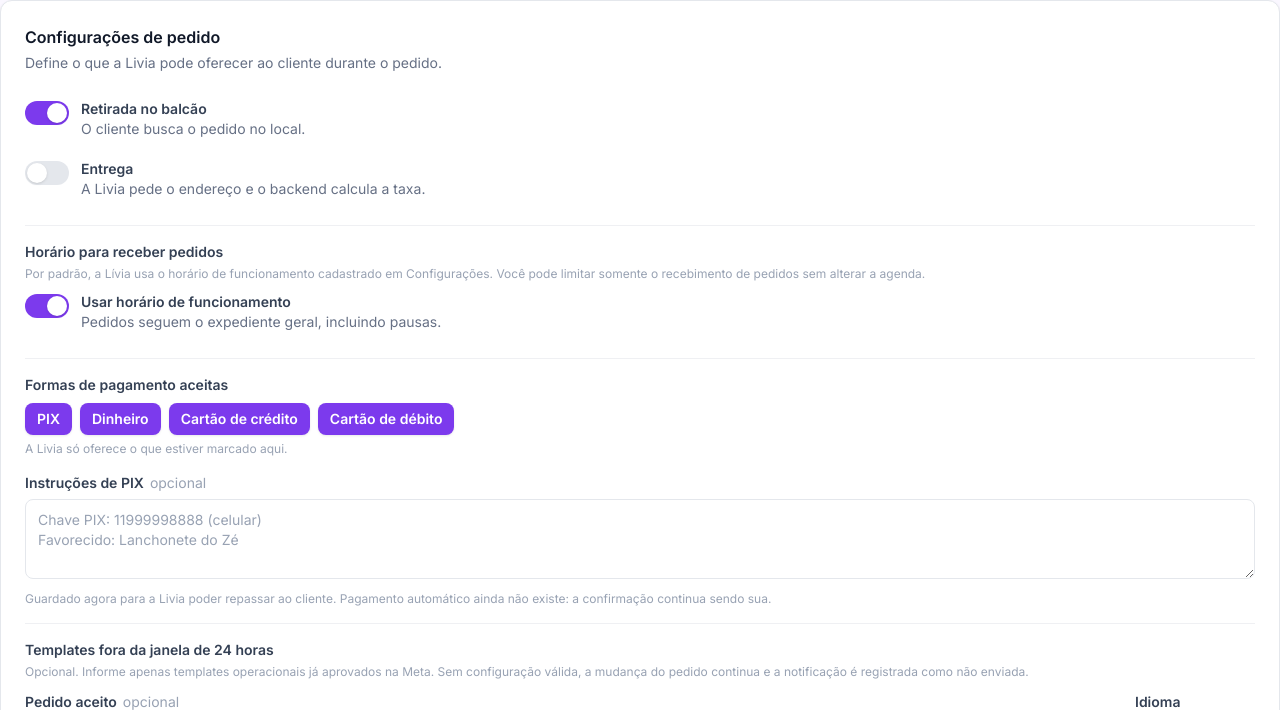
it: OrderSettingsEditor (tela) › instruções de PIX só aparecem quando PIX está aceito
The image size is (1280, 710).
Expected: the text "Configurações de pedido" is shown, x1=25 y1=27 x2=220 y2=47
Expected: the text "Instruções de PIX" is shown, x1=25 y1=474 x2=144 y2=491
Click the button "PIX".
click(48, 419)  # box x1=25 y1=403 x2=72 y2=435
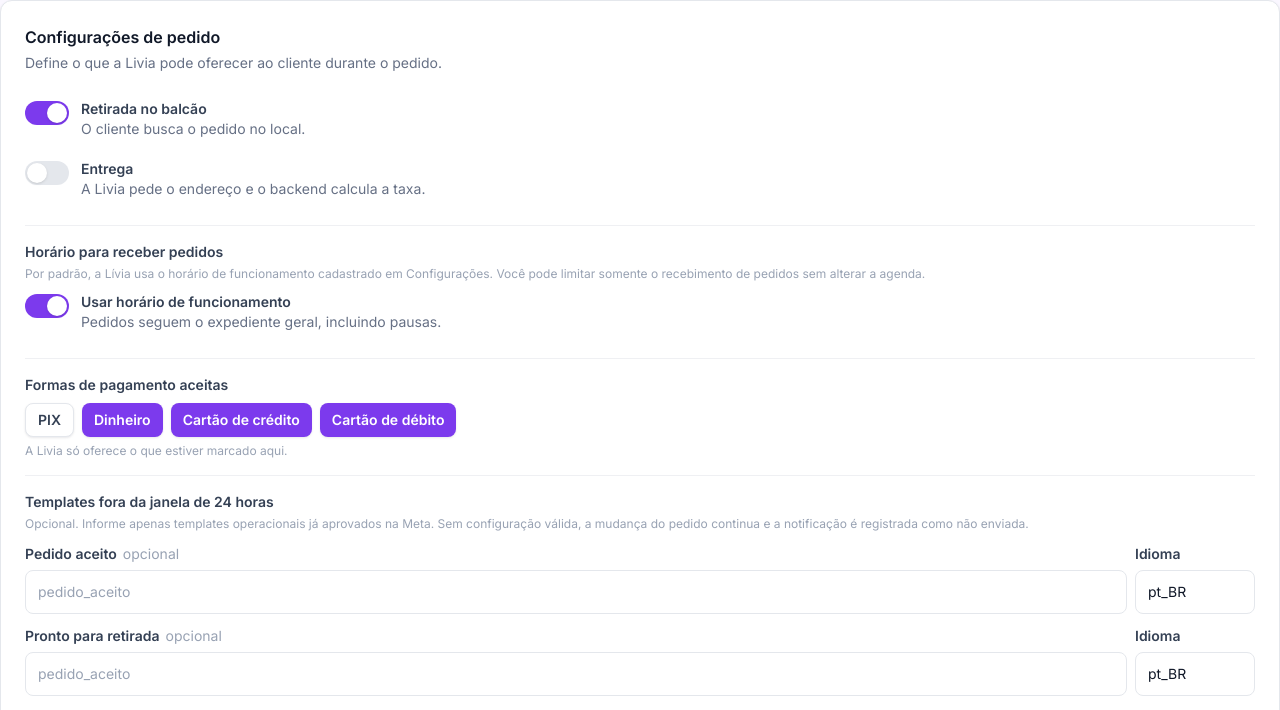
Result: the text "Instruções de PIX" is gone
